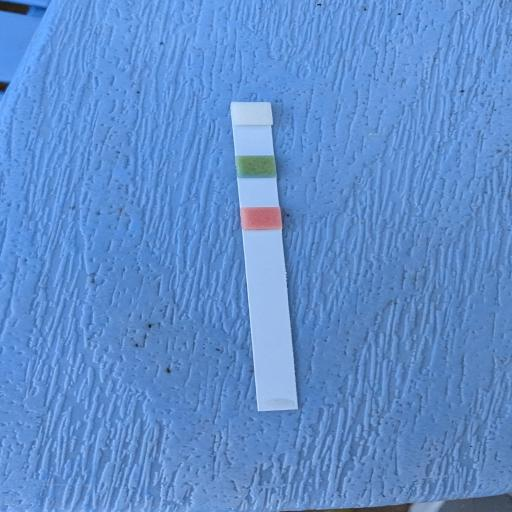strip: (230, 100, 304, 414)
